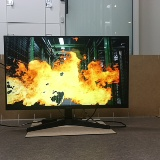fire: (4, 37, 128, 106)
